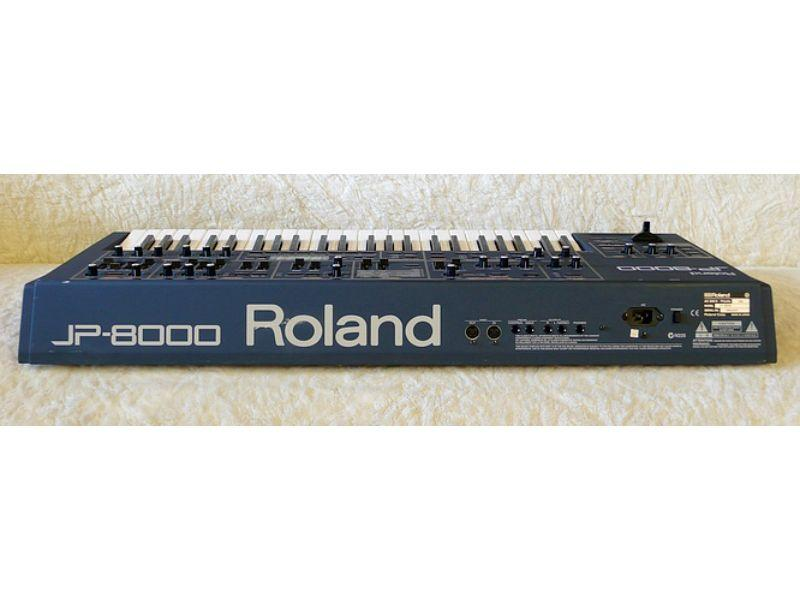synthesizer: (19, 212, 778, 378)
